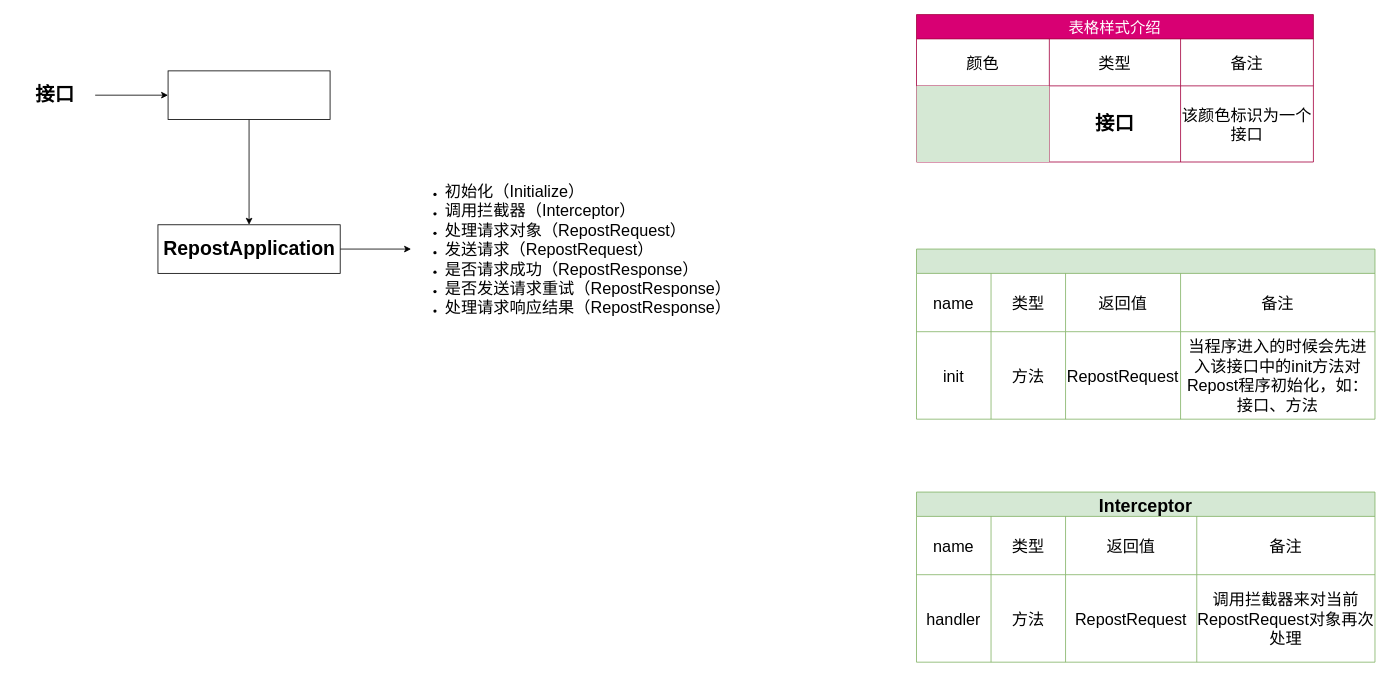
Image size: 1389x676. Some labels were removed from this diagram. Here are the shapes that lost their labels. From the top down, the box of each, then its label:
(167, 70, 330, 119): Repost代理程序
(916, 248, 1375, 419): Initialize
